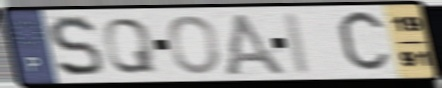A: (220, 10, 291, 77)
C: (334, 7, 394, 77)
I: (280, 10, 314, 76)
O: (166, 14, 223, 76)
Q: (100, 16, 159, 75)
S: (46, 13, 107, 79)
